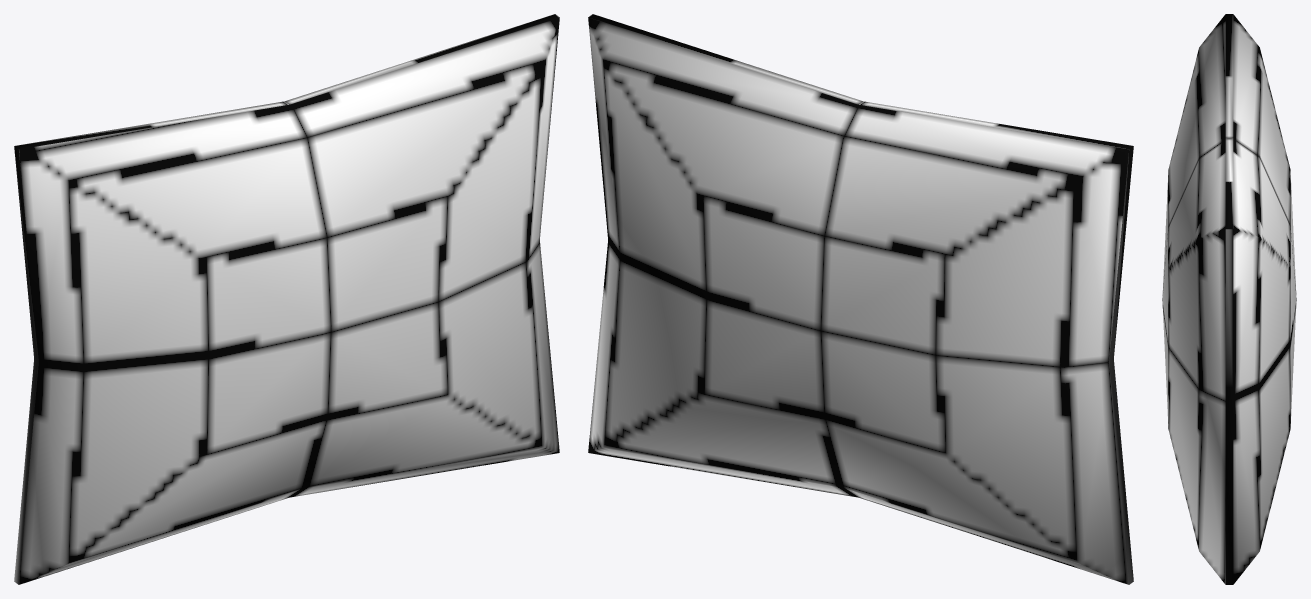
The model's file is Pillow.obj.
3 renders of one model, left to right at view 1: azimuth 30°, elevation 25°; view 2: azimuth 150°, elevation 25°; view 3: azimuth 270°, elevation 25°, orthographic. The views are drawn at different scales.
Parts seen in each view (by area): view 1: Cube1; view 2: Cube1; view 3: Cube1.
Boxes of the visible parts, x1,y1,x2,y2 form: Cube1: [14, 14, 559, 584]; Cube1: [588, 14, 1133, 584]; Cube1: [1162, 14, 1296, 584].
Size of the model in its own units: 2.6 by 2 by 0.6841.
Materials: 1 (1 with a texture image).
